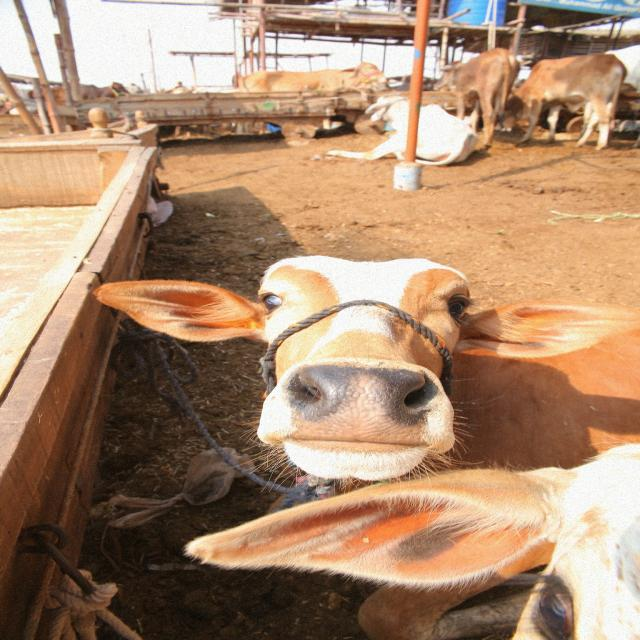muzzles: (279, 363, 440, 448)
